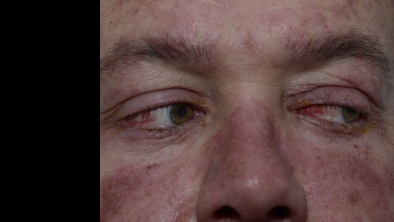SJS-TEN: (97, 0, 393, 221)
